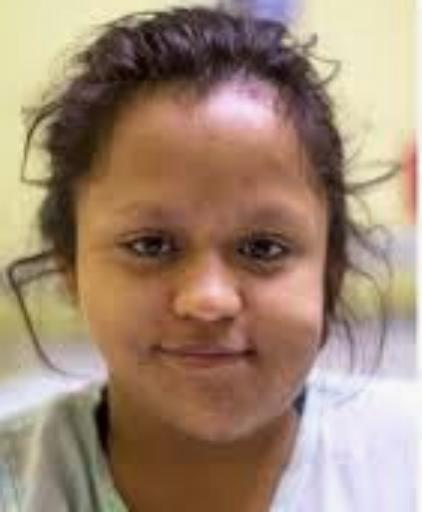left_eye: (238, 236, 296, 268)
left_lip_corner: (242, 344, 267, 369)
right_eye: (114, 232, 184, 264)
right_lip_corner: (148, 337, 188, 365)
